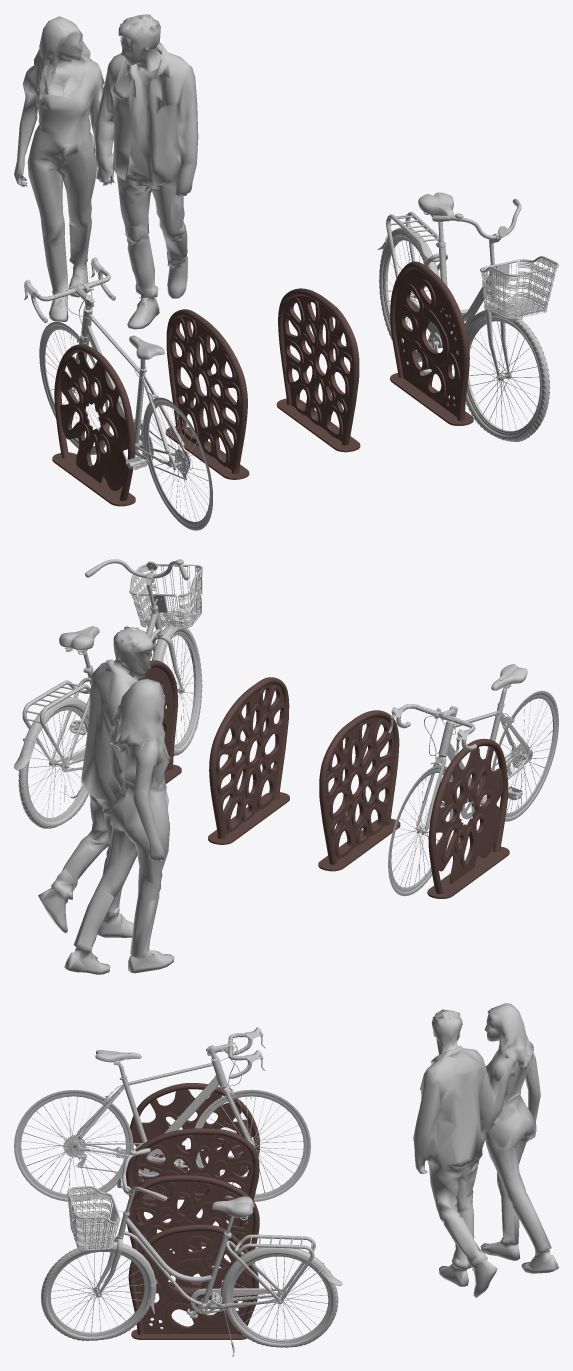
3 views of the same model, one above another, from view 1: azimuth 30°, elevation 25°; view 2: azimuth 150°, elevation 25°; view 3: azimuth 270°, elevation 25° (orthographic). The views are drawn at different scales.
Parts seen in each view (by area): view 1: Couple, bike1, Bike2, Line026, Line033, top_pattern008, top_pattern004, Line031, top_pattern009, Line029, Line028, Line034 (+7 smaller); view 2: Couple, bike1, Bike2, Line033, Line026, top_pattern008, top_pattern009, Line029, Line034, Line028, Line027, Line032 (+5 smaller); view 3: Couple, bike1, Bike2, Line031, Line026, Line033, top_pattern004, top_pattern008, Line027, Line028, Line032, Line030 (+4 smaller).
Boxes of the visible parts, x1,y1,x2,y2 form: Couple: [14, 14, 198, 329]; bike1: [377, 192, 558, 441]; Bike2: [24, 257, 212, 530]; Line026: [169, 316, 240, 466]; Line033: [282, 297, 351, 438]; top_pattern008: [59, 351, 127, 490]; top_pattern004: [397, 279, 460, 401]; Line031: [395, 269, 462, 416]; top_pattern009: [65, 370, 117, 470]; Line029: [54, 344, 135, 500]; Line028: [166, 309, 247, 473]; Line034: [278, 288, 359, 445]; Couple: [38, 626, 174, 974]; bike1: [14, 559, 202, 828]; Bike2: [388, 664, 558, 896]; Line033: [216, 684, 285, 832]; Line026: [326, 719, 394, 857]; top_pattern008: [436, 747, 503, 883]; top_pattern009: [441, 767, 493, 868]; Line029: [428, 738, 508, 893]; Line034: [209, 677, 289, 839]; Line028: [319, 710, 399, 864]; Line027: [326, 717, 394, 860]; Line032: [216, 684, 284, 835]; Couple: [413, 1003, 558, 1297]; bike1: [41, 1148, 342, 1356]; Bike2: [14, 1027, 310, 1201]; Line031: [135, 1231, 252, 1333]; Line026: [134, 1135, 253, 1235]; Line033: [132, 1181, 251, 1287]; top_pattern004: [141, 1235, 246, 1332]; top_pattern008: [133, 1089, 252, 1193]; Line027: [132, 1134, 252, 1239]; Line028: [126, 1128, 259, 1240]; Line032: [132, 1181, 253, 1287]; Line030: [128, 1224, 259, 1334].
Bounding box in the file's own units: 2.75 × 1.85 × 3.45.
